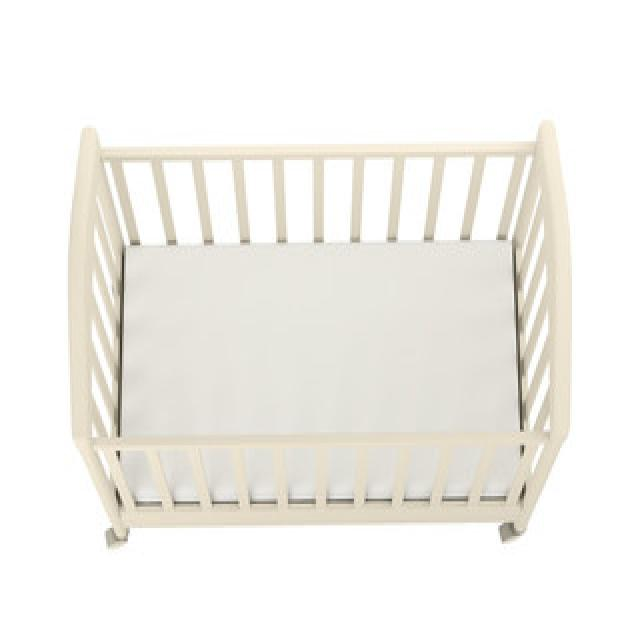crib: (66, 117, 572, 547)
